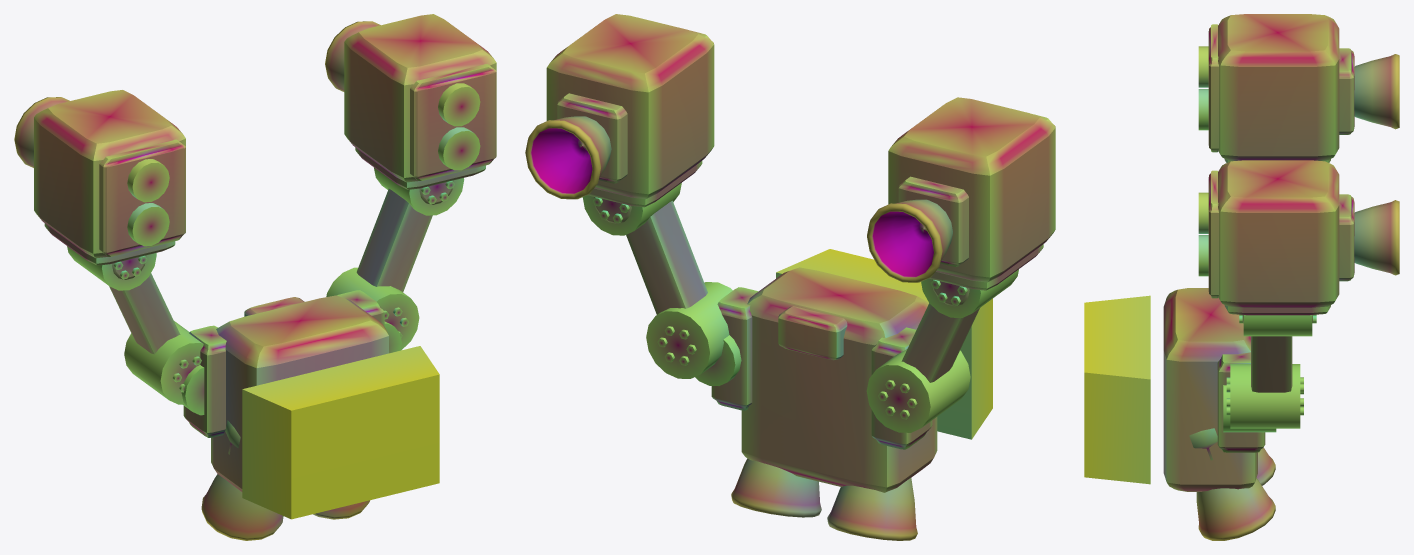
File: llm_gen_dorsal_pack_008_269577.glb
The picture shows the model from 3 angles, left to right: view 1: azimuth 30°, elevation 25°; view 2: azimuth 150°, elevation 25°; view 3: azimuth 270°, elevation 25°; orthographic projection. The views are drawn at different scales.
Visible parts, largest first — view 1: mounting_dovetail_plug, salvo_pod_box_6_adapter_dark_r, salvo_pod_box_6_adapter_dark_l, adapter_dorsal_spine_dark, salvo_face_frame_7_amber_optic_r, salvo_face_frame_7_amber_optic_l, salvo_mount_pylon_2_adapter_dark_r, adapter_sub_pylon_drum_dark_0_adapter_dark_l, lower_boost_bell_12_vernier_bell_vernier_l, salvo_mount_pylon_2_adapter_dark_l, adapter_dorsal_outrigger_dark_l, adapter_sub_pylon_drum_dark_0_adapter_dark_r (+12 smaller); view 2: adapter_dorsal_spine_dark, salvo_pod_box_6_adapter_dark_r, salvo_pod_box_6_adapter_dark_l, mounting_dovetail_plug, exhaust_vernier_11_vernier_bell_vernier_r, exhaust_vernier_11_vernier_bell_vernier_l, salvo_mount_pylon_2_adapter_dark_r, adapter_sub_pylon_drum_dark_0_adapter_dark_l, adapter_sub_pylon_drum_dark_0_adapter_dark_r, lower_boost_bell_12_vernier_bell_vernier_l, lower_boost_bell_12_vernier_bell_vernier_r, salvo_mount_pylon_2_adapter_dark_l (+10 smaller); view 3: salvo_pod_box_6_adapter_dark_r, salvo_pod_box_6_adapter_dark_l, adapter_dorsal_spine_dark, mounting_dovetail_plug, lower_boost_bell_12_vernier_bell_vernier_r, adapter_sub_pylon_drum_dark_0_adapter_dark_r, exhaust_vernier_11_vernier_bell_vernier_r, exhaust_vernier_11_vernier_bell_vernier_l, salvo_mount_pylon_2_adapter_dark_r, adapter_dorsal_outrigger_dark_r, adapter_sub_upper_drum_dark_3_adapter_dark_r, adapter_sub_pod_exhaust_dark_10_adapter_dark_r (+11 smaller).
Part boxes in pixels (bbox=[...]): mounting_dovetail_plug: bbox=[242, 346, 439, 519]; salvo_pod_box_6_adapter_dark_r: bbox=[344, 14, 496, 182]; salvo_pod_box_6_adapter_dark_l: bbox=[34, 90, 185, 258]; adapter_dorsal_spine_dark: bbox=[211, 295, 388, 491]; salvo_face_frame_7_amber_optic_r: bbox=[410, 64, 496, 180]; salvo_face_frame_7_amber_optic_l: bbox=[99, 139, 185, 256]; salvo_mount_pylon_2_adapter_dark_r: bbox=[356, 188, 432, 292]; adapter_sub_pylon_drum_dark_0_adapter_dark_l: bbox=[124, 321, 203, 404]; lower_boost_bell_12_vernier_bell_vernier_l: bbox=[201, 474, 283, 540]; salvo_mount_pylon_2_adapter_dark_l: bbox=[109, 273, 180, 354]; adapter_dorsal_outrigger_dark_l: bbox=[183, 325, 226, 437]; adapter_sub_pylon_drum_dark_0_adapter_dark_r: bbox=[326, 267, 419, 350]; adapter_dorsal_spine_dark: bbox=[741, 267, 937, 492]; salvo_pod_box_6_adapter_dark_r: bbox=[546, 14, 714, 199]; salvo_pod_box_6_adapter_dark_l: bbox=[888, 97, 1055, 282]; mounting_dovetail_plug: bbox=[776, 249, 992, 439]; exhaust_vernier_11_vernier_bell_vernier_r: bbox=[525, 116, 611, 199]; exhaust_vernier_11_vernier_bell_vernier_l: bbox=[867, 199, 952, 282]; salvo_mount_pylon_2_adapter_dark_r: bbox=[626, 200, 707, 314]; adapter_sub_pylon_drum_dark_0_adapter_dark_l: bbox=[866, 349, 970, 432]; adapter_sub_pylon_drum_dark_0_adapter_dark_r: bbox=[646, 282, 732, 378]; lower_boost_bell_12_vernier_bell_vernier_l: bbox=[827, 478, 917, 540]; lower_boost_bell_12_vernier_bell_vernier_r: bbox=[731, 458, 821, 517]; salvo_mount_pylon_2_adapter_dark_l: bbox=[901, 303, 979, 382]; salvo_pod_box_6_adapter_dark_r: bbox=[1218, 160, 1339, 307]; salvo_pod_box_6_adapter_dark_l: bbox=[1218, 14, 1339, 160]; adapter_dorsal_spine_dark: bbox=[1163, 288, 1257, 491]; mounting_dovetail_plug: bbox=[1084, 295, 1150, 484]; lower_boost_bell_12_vernier_bell_vernier_r: bbox=[1196, 478, 1275, 540]; adapter_sub_pylon_drum_dark_0_adapter_dark_r: bbox=[1230, 364, 1300, 428]; exhaust_vernier_11_vernier_bell_vernier_r: bbox=[1354, 200, 1399, 275]; exhaust_vernier_11_vernier_bell_vernier_l: bbox=[1354, 54, 1399, 129]; salvo_mount_pylon_2_adapter_dark_r: bbox=[1251, 336, 1292, 392]; adapter_dorsal_outrigger_dark_r: bbox=[1217, 352, 1265, 452]; adapter_sub_upper_drum_dark_3_adapter_dark_r: bbox=[1243, 315, 1312, 336]; adapter_sub_pod_exhaust_dark_10_adapter_dark_r: bbox=[1339, 194, 1354, 281].
Size of the model in its own units: 55.15 by 54.22 by 38.13.
